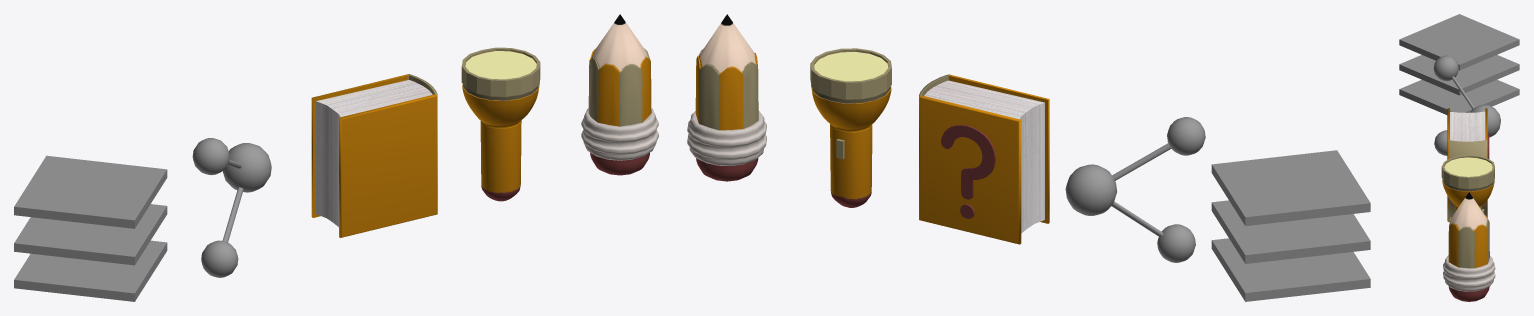
The model's file is M_3DUI.FBX.
3 renders of one model, left to right at view 1: azimuth 30°, elevation 25°; view 2: azimuth 150°, elevation 25°; view 3: azimuth 270°, elevation 25°, orthographic. The views are drawn at different scales.
Visible parts, largest first — view 1: M_Layers, M_Book, M_Pencil, M_Flashlight, M_Share; view 2: M_Layers, M_Book, M_Pencil, M_Flashlight, M_Share; view 3: M_Layers, M_Pencil, M_Flashlight, M_Book, M_Share.
Part boxes in pixels (x1,y1,x2,y2): M_Layers: [14, 155, 167, 301]; M_Book: [311, 74, 437, 237]; M_Pencil: [581, 14, 658, 175]; M_Flashlight: [461, 47, 540, 201]; M_Share: [192, 138, 271, 277]; M_Layers: [1211, 150, 1370, 301]; M_Book: [919, 74, 1049, 244]; M_Pencil: [687, 14, 766, 181]; M_Flashlight: [810, 48, 891, 207]; M_Share: [1065, 117, 1205, 262]; M_Layers: [1399, 14, 1519, 114]; M_Pencil: [1443, 192, 1495, 301]; M_Flashlight: [1441, 155, 1494, 213]; M_Book: [1447, 108, 1489, 221]; M_Share: [1433, 55, 1500, 155].
Bounding box in the file's own units: 0.5968 × 0.138 × 0.1414.
Materials: 5 (3 with a texture image).
